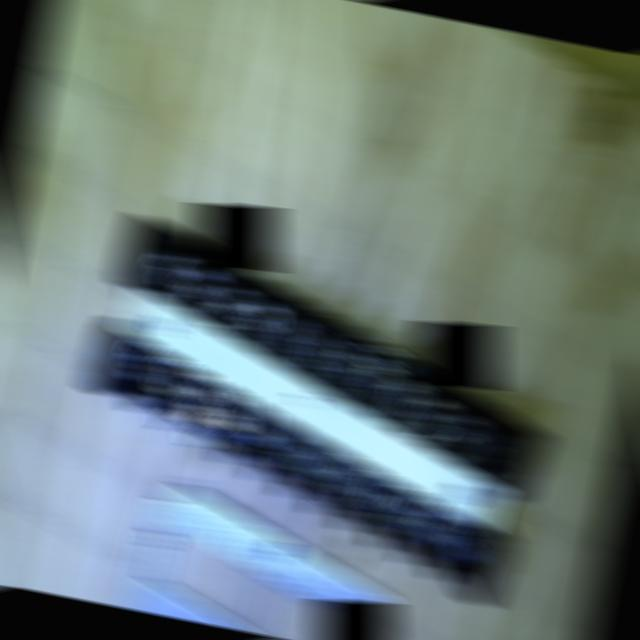Phillips_Block: (52, 212, 576, 608)
